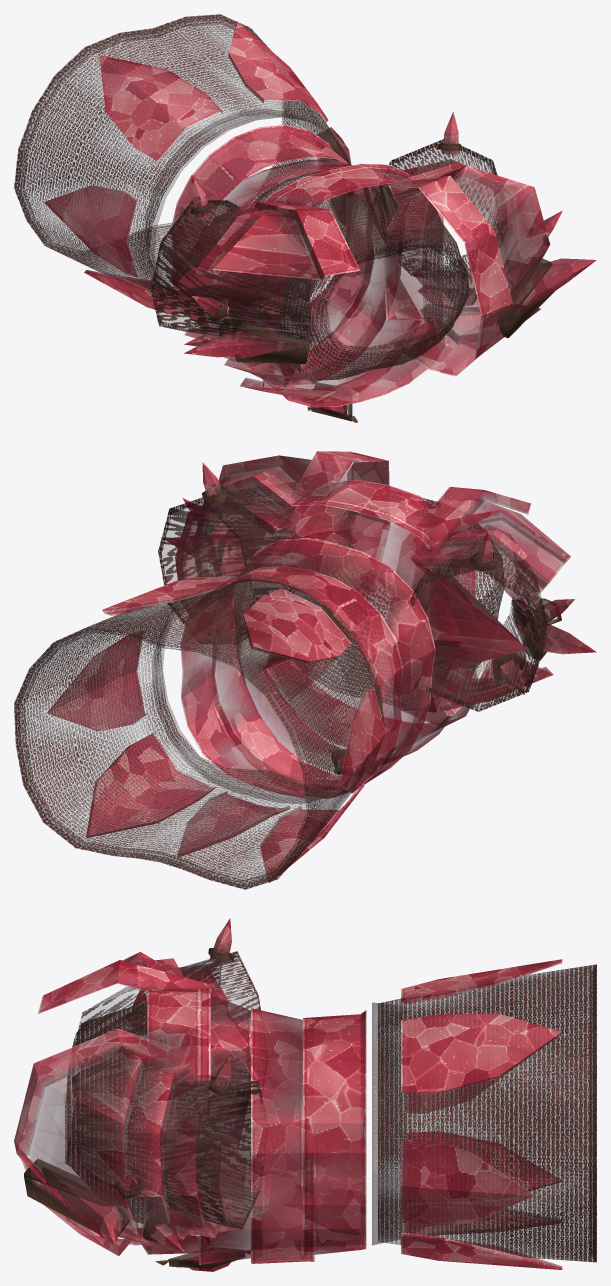
File: cuirasse_rubis_enchante.glb
The picture shows the model from 3 angles, top to bottom: view 1: azimuth 30°, elevation 25°; view 2: azimuth 150°, elevation 25°; view 3: azimuth 270°, elevation 25°; orthographic projection. The views are drawn at different scales.
Visible parts, largest first — view 1: cuirasse_rubis.001; view 2: cuirasse_rubis.001; view 3: cuirasse_rubis.001.
Part boxes in pixels (left/top/right/bottom): cuirasse_rubis.001: left=14, top=14, right=596, bottom=422; cuirasse_rubis.001: left=14, top=451, right=596, bottom=889; cuirasse_rubis.001: left=14, top=918, right=596, bottom=1271.
Bounding box in the file's own units: 0.8775 × 0.543 × 1.01.
Materials: 5 (5 with a texture image).
